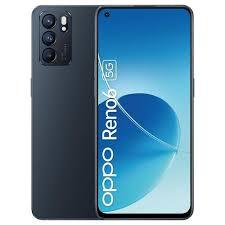Smartphone: (97, 5, 190, 214), (34, 7, 98, 218)
